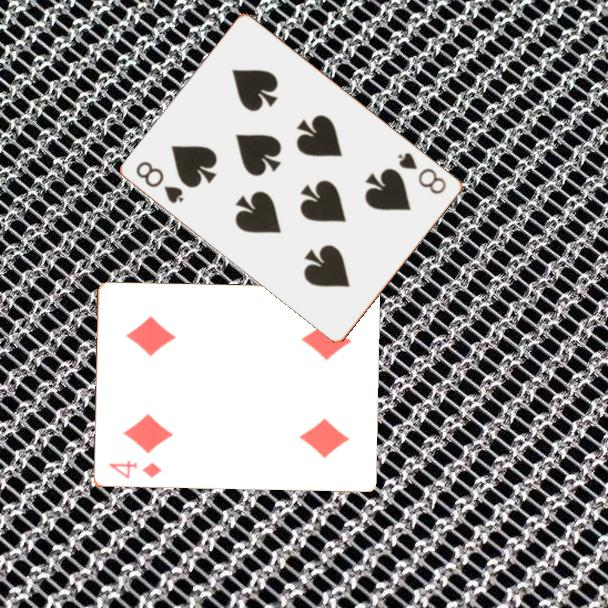d04: (105, 457, 164, 481)
s08: (394, 149, 450, 197), (133, 157, 187, 206)
